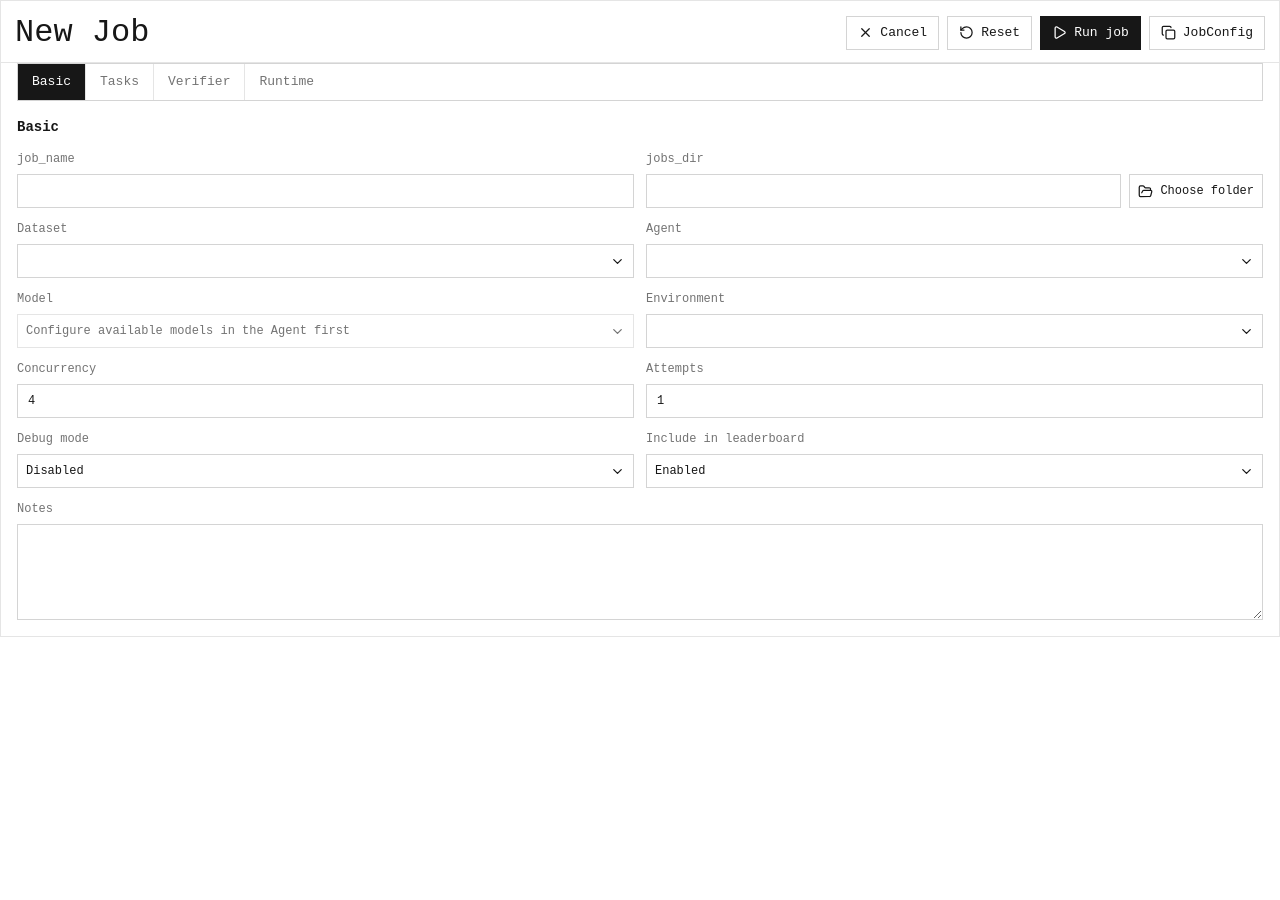
Test: RunBuilder validation › explains invalid required fields instead of silently disabling Run job
What coordinates should you click on to do the following:
click the button "Run job"
I would click on:
 (1090, 33)
Its box is [1040, 16, 1141, 50].
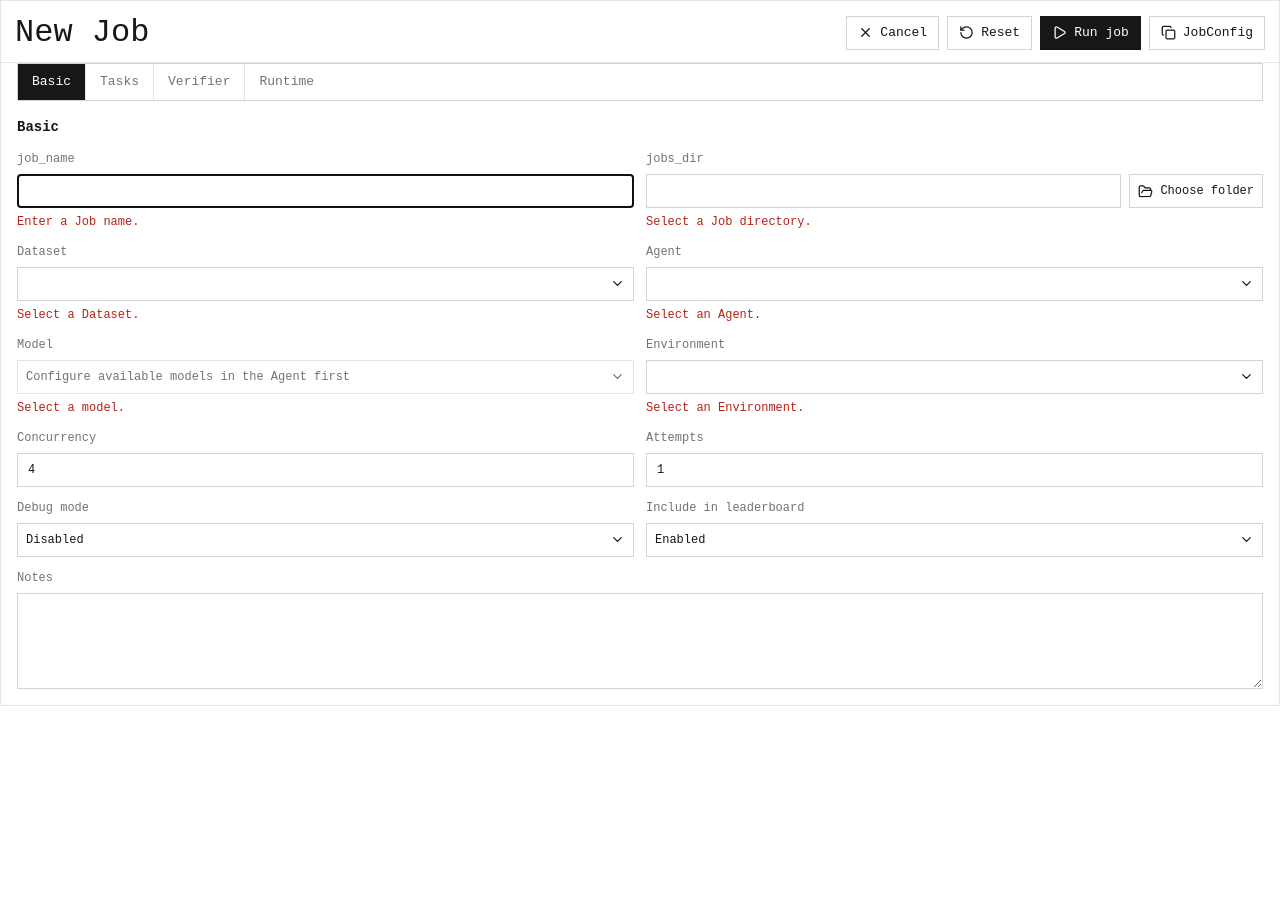
Now the text "Enter a Job name." is shown, box [17, 215, 139, 229]
